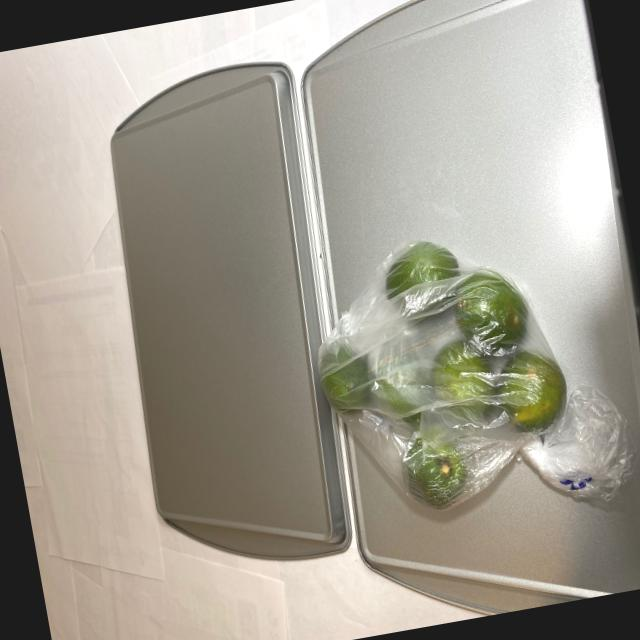lemon: (298, 218, 608, 533)
